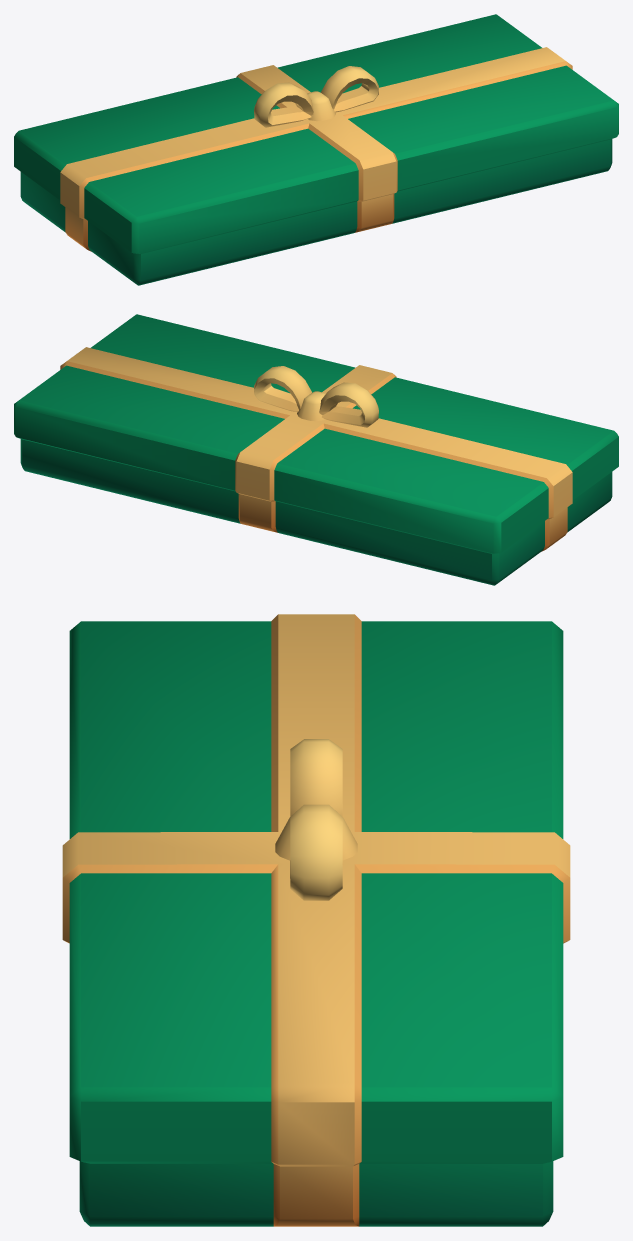
File: present_F_green.glb
3 views of the same model, one above another, from view 1: azimuth 30°, elevation 25°; view 2: azimuth 150°, elevation 25°; view 3: azimuth 270°, elevation 25° (orthographic). The views are drawn at different scales.
Parts seen in each view (by area): view 1: present_F_green; view 2: present_F_green; view 3: present_F_green.
Boxes of the visible parts, bbox=[...] form: present_F_green: bbox=[14, 14, 618, 285]; present_F_green: bbox=[14, 314, 618, 585]; present_F_green: bbox=[62, 614, 570, 1226].
Size of the model in its own units: 2.16 by 0.4617 by 0.9638.
Materials: 1 (1 with a texture image).
